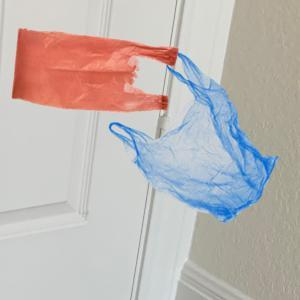plastic_bag: (108, 49, 279, 226), (12, 25, 178, 116)
